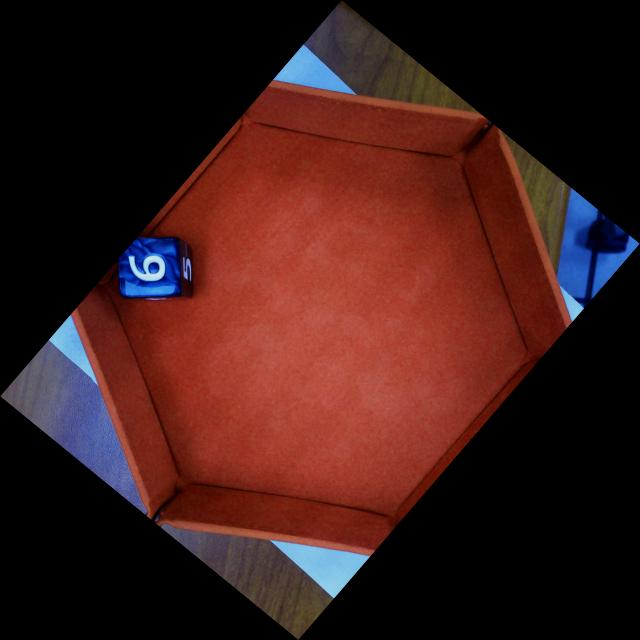dice: (122, 238, 181, 293)
